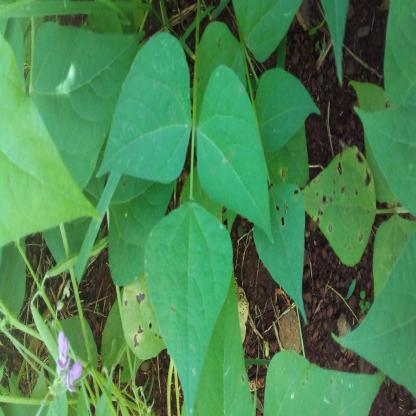Beans_Angular_LeafSpot: (292, 144, 387, 264), (190, 271, 256, 416), (267, 344, 397, 416), (256, 143, 306, 308), (118, 274, 170, 360)
